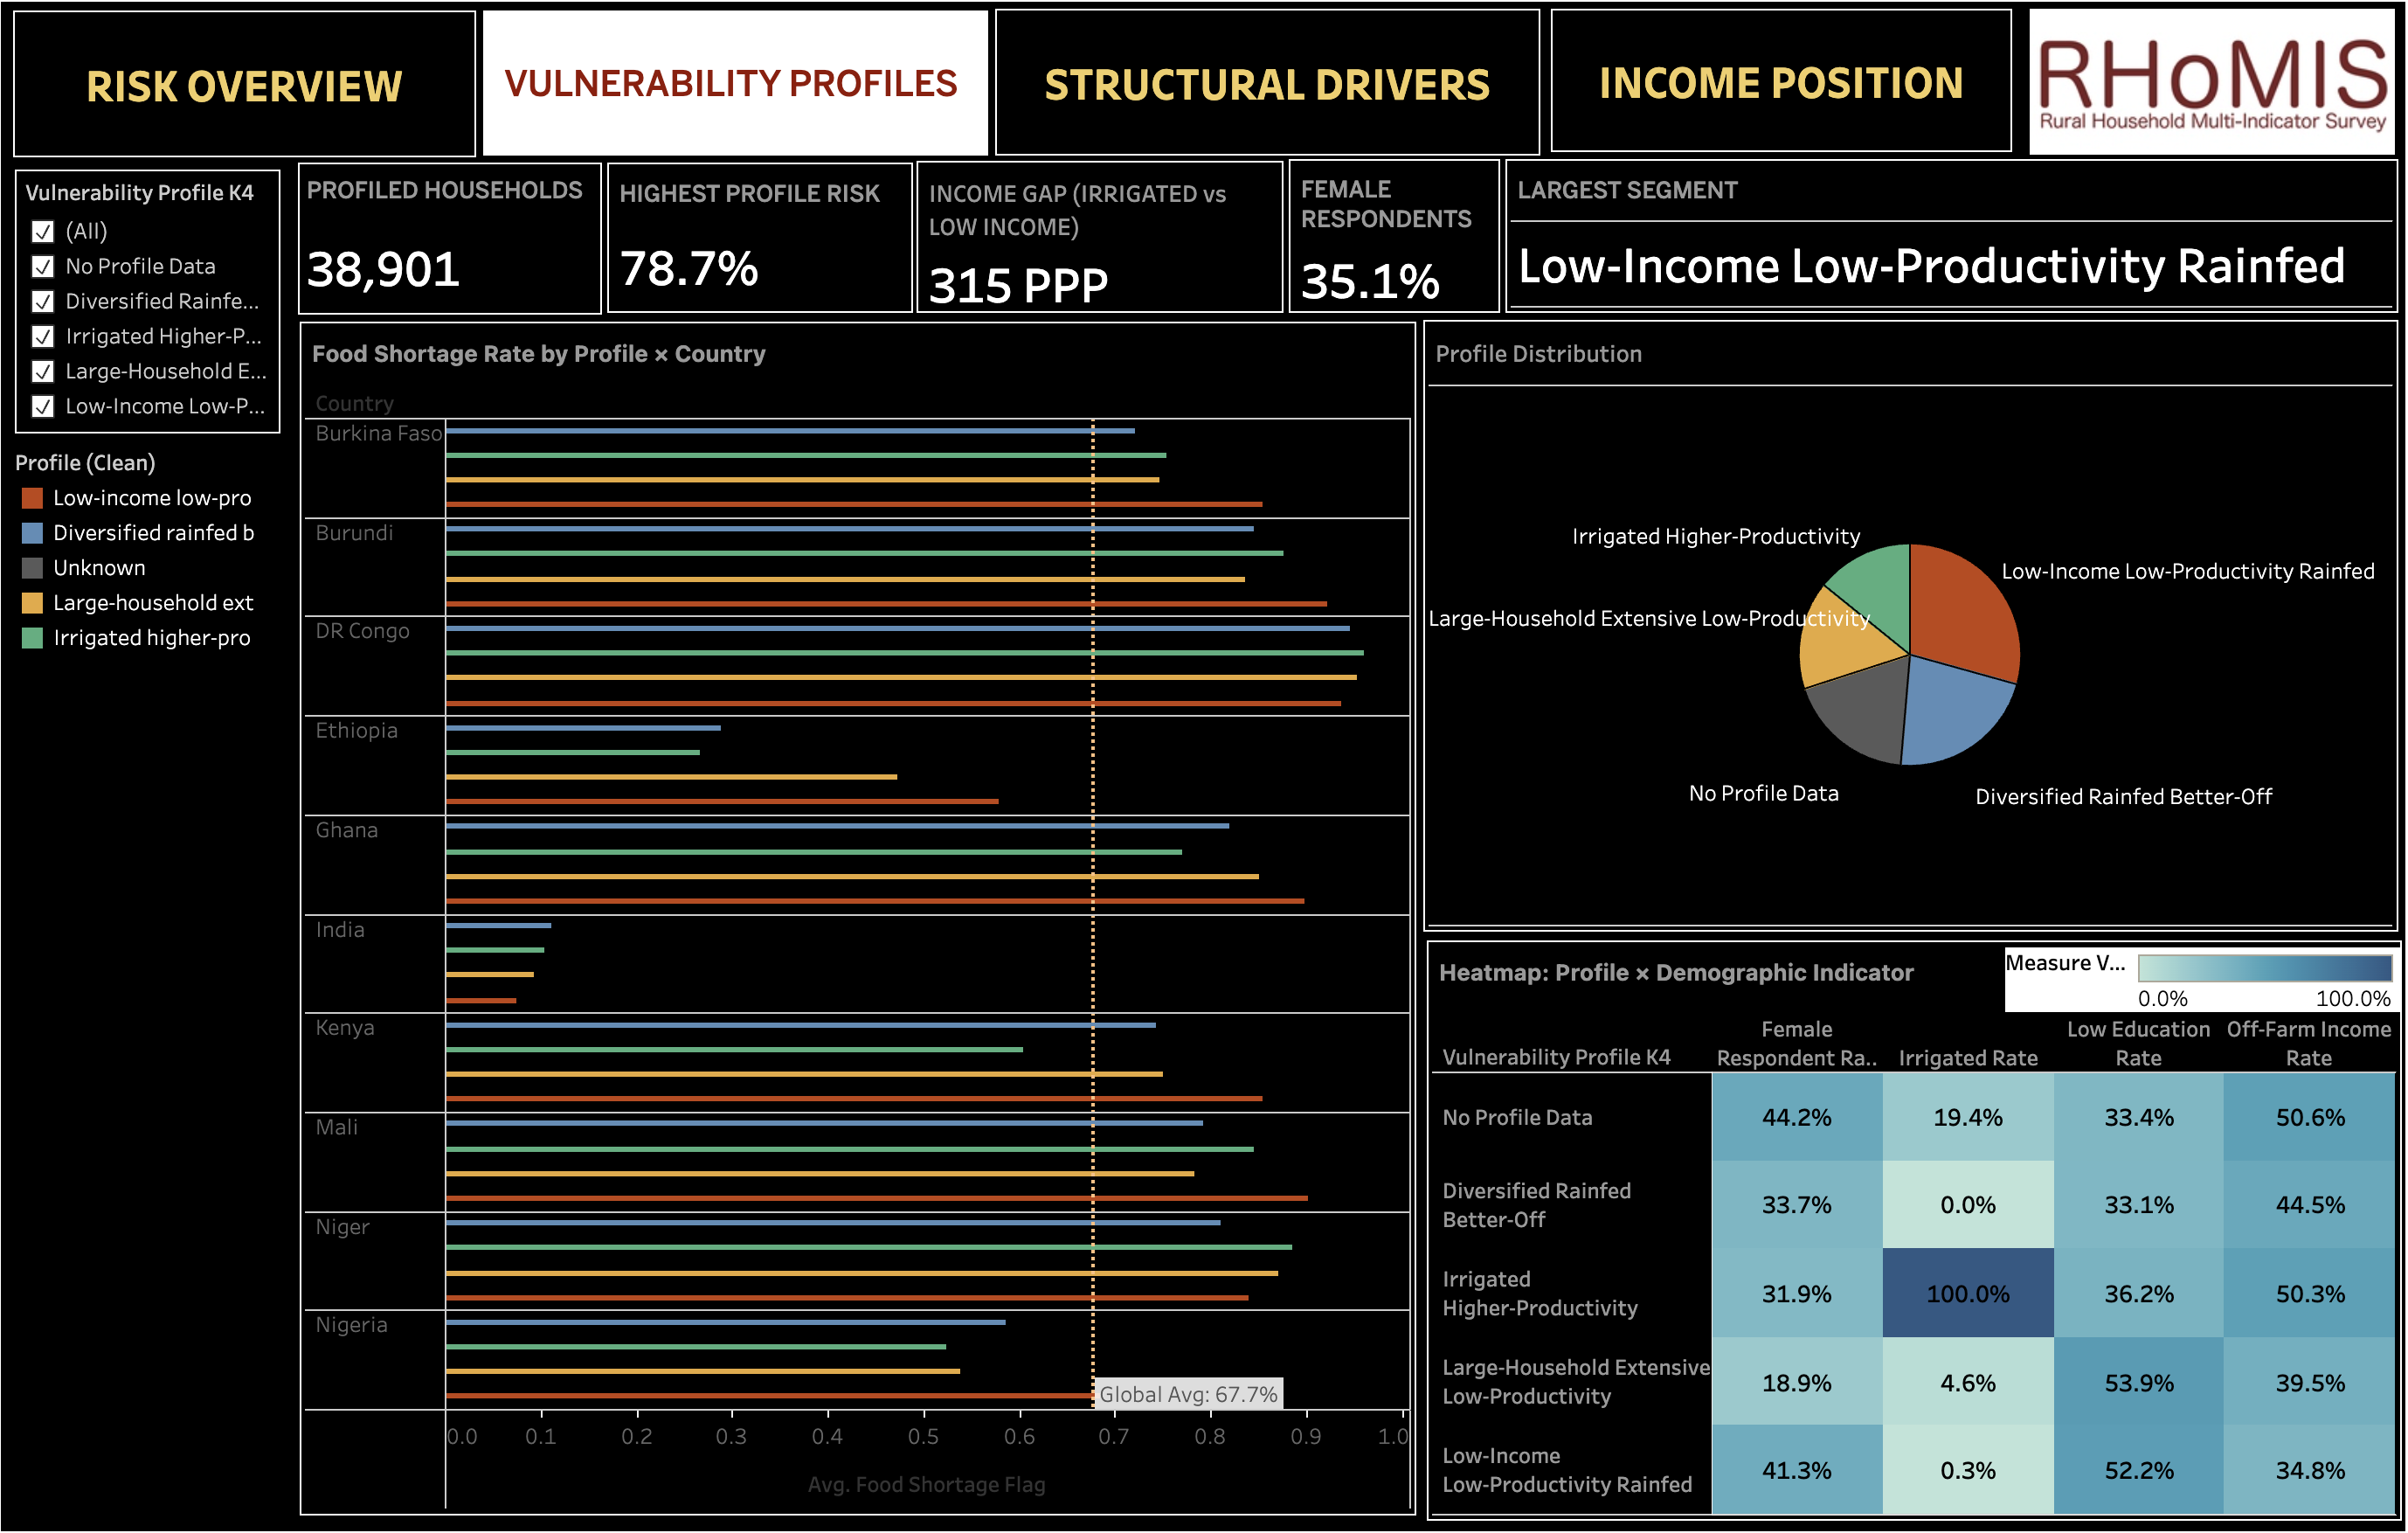

The page's visual inventory and layout, read from the dashboard file:
{"tool":"tableau","page":{"name":"VULNERABILITY PROFILES","canvas":[1400,900],"ordinal":3},"visuals":[{"type":"blank","box":[8,8,1384,884]},{"type":"dashboard-object","box":[581,16,312,84]},{"type":"dashboard-object","box":[899,16,264,82]},{"type":"image","param":"Image/rhomis-logo.png","box":[1173,16,209,85]},{"type":"dashboard-object","box":[19,17,265,84]},{"type":"text","box":[288,17,289,83]},{"type":"worksheet","title":"KPI2 - FEMALE RESPONDENTS","mark":"Automatic","box":[749,102,121,88]},{"type":"worksheet","title":"KPI2 - LARGEST SEGMENT","mark":"Text","rows":["vulnerability_profile_k4"],"box":[873,102,511,88]},{"type":"worksheet","title":"KPI2 - INCOME GAP","mark":"Automatic","box":[536,103,210,87]},{"type":"filter","title":"KPI2 - Profiled HH","param":"[federated.18g2uha1kfgs62108f3sf1ksln33].[none:vulnerability_profile_k4:nk]","box":[16,104,160,148]},{"type":"worksheet","title":"KPI2 - Profiled HH","mark":"Text","box":[182,104,174,87]},{"type":"worksheet","title":"KPI2 - Highest Risk","mark":"Automatic","box":[359,104,175,86]},{"type":"worksheet","title":"Profile Distribution","mark":"Pie","box":[826,194,558,350]},{"type":"worksheet","title":"Food Shortage Rate by Profile × Country","mark":"Bar","rows":["country","Calculation_3682809731792904"],"cols":["food_shortage_flag"],"box":[183,195,639,683]},{"type":"legend","title":"Profile Distribution","param":"[federated.18g2uha1kfgs62108f3sf1ksln33].[none:Calculation_3682809731792904:nk]","box":[16,252,160,126]},{"type":"worksheet","title":"Heatmap","mark":"Square","rows":["vulnerability_profile_k4"],"box":[828,549,558,332]},{"type":"legend","title":"Heatmap","param":"[federated.18g2uha1kfgs62108f3sf1ksln33].[Multiple Values]","box":[1159,553,226,37]}]}

Visuals, with their boxes in screenshot pixels (x1, y1, x2, y2), scaled from the page's 1400x900 canvas onto the 2408x1533 screenshot:
blank: pyautogui.locateOnScreen(14, 14, 2394, 1519)
dashboard-object: pyautogui.locateOnScreen(1000, 27, 1536, 170)
dashboard-object: pyautogui.locateOnScreen(1547, 27, 2000, 167)
image: pyautogui.locateOnScreen(2017, 27, 2377, 172)
dashboard-object: pyautogui.locateOnScreen(32, 29, 488, 172)
text: pyautogui.locateOnScreen(495, 29, 993, 170)
"KPI2 - FEMALE RESPONDENTS" worksheet: pyautogui.locateOnScreen(1288, 174, 1497, 323)
"KPI2 - LARGEST SEGMENT" worksheet (Text marks): pyautogui.locateOnScreen(1502, 174, 2381, 323)
"KPI2 - INCOME GAP" worksheet: pyautogui.locateOnScreen(922, 176, 1284, 323)
"KPI2 - Profiled HH" filter: pyautogui.locateOnScreen(27, 177, 302, 429)
"KPI2 - Profiled HH" worksheet (Text marks): pyautogui.locateOnScreen(313, 177, 612, 325)
"KPI2 - Highest Risk" worksheet: pyautogui.locateOnScreen(618, 177, 918, 323)
"Profile Distribution" worksheet (Pie marks): pyautogui.locateOnScreen(1421, 330, 2381, 926)
"Food Shortage Rate by Profile × Country" worksheet (Bar marks): pyautogui.locateOnScreen(315, 332, 1414, 1495)
"Profile Distribution" legend: pyautogui.locateOnScreen(27, 429, 302, 644)
"Heatmap" worksheet (Square marks): pyautogui.locateOnScreen(1424, 935, 2384, 1501)
"Heatmap" legend: pyautogui.locateOnScreen(1994, 942, 2382, 1005)
